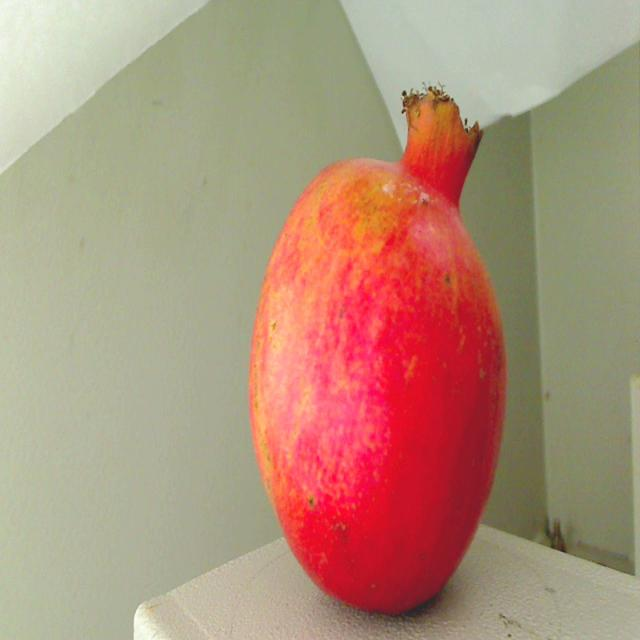pomegranate: (236, 78, 522, 628)
